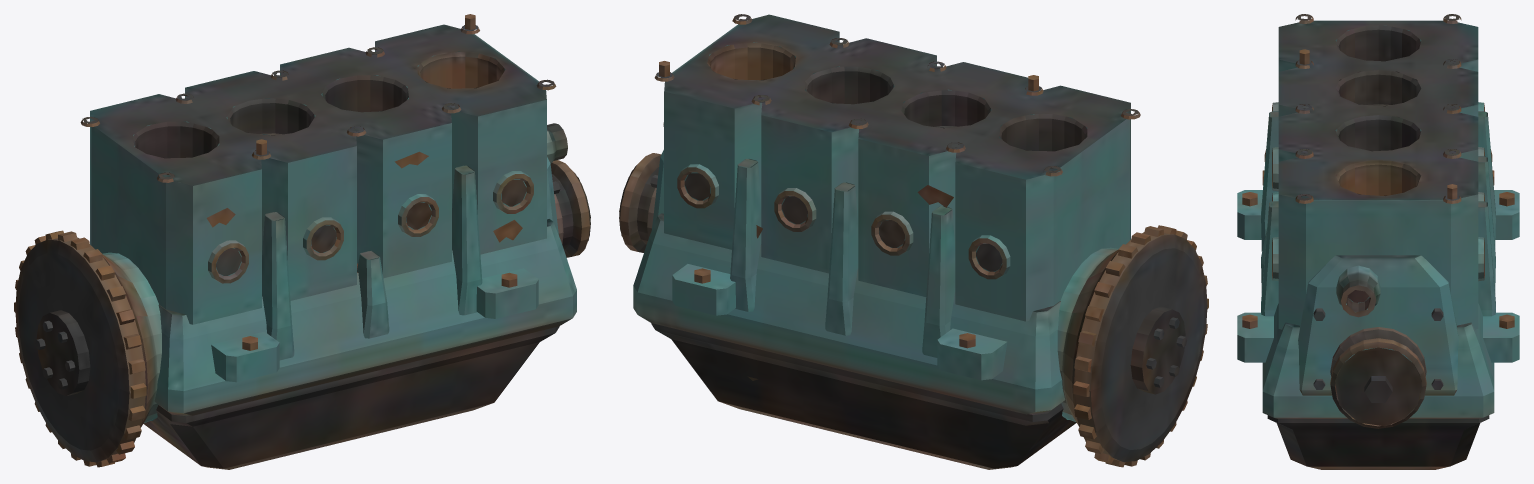
Rendered from JV17_exposed_engine_block.glb.
3 views of the same model, side by side, from view 1: azimuth 30°, elevation 25°; view 2: azimuth 150°, elevation 25°; view 3: azimuth 270°, elevation 25° (orthographic). The views are drawn at different scales.
Parts seen in each view (by area): view 1: Exposed engine block; view 2: Exposed engine block; view 3: Exposed engine block.
Part boxes in pixels (bbox=[...]): Exposed engine block: bbox=[14, 14, 590, 469]; Exposed engine block: bbox=[619, 14, 1208, 469]; Exposed engine block: bbox=[1237, 14, 1519, 469].
Bounding box in the file's own units: 0.8 × 0.4662 × 0.383.
Materials: 6 (6 with a texture image).
